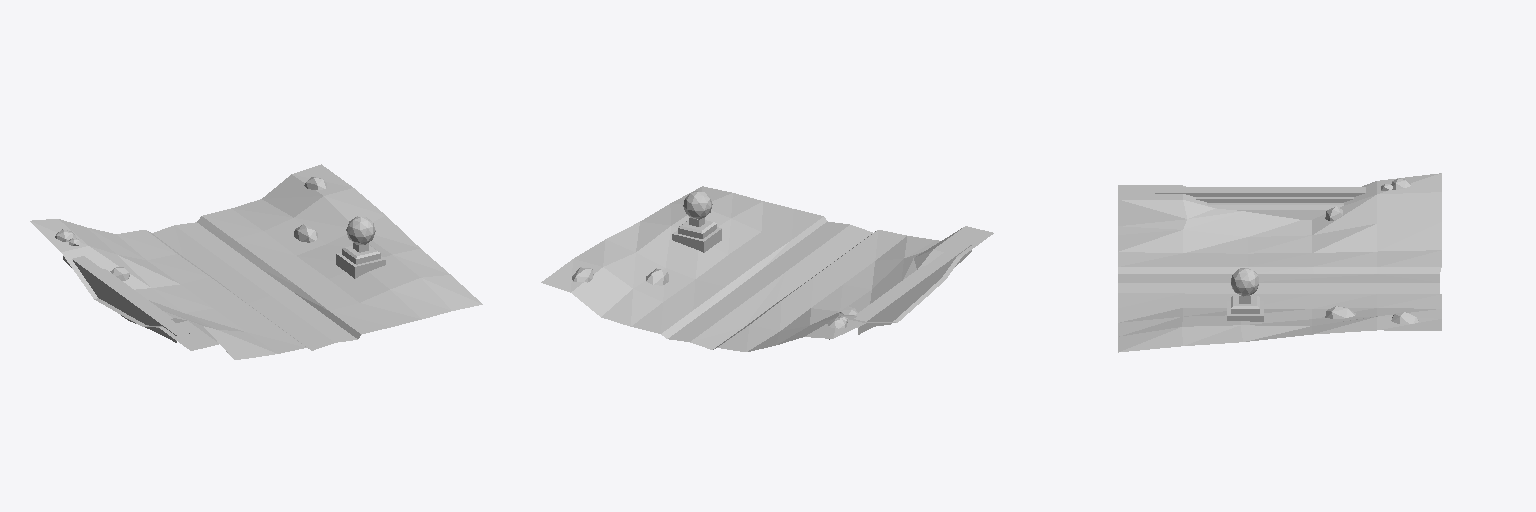
File: snowt.obj
3 views of the same model, side by side, from view 1: azimuth 30°, elevation 25°; view 2: azimuth 150°, elevation 25°; view 3: azimuth 270°, elevation 25° (orthographic).
Parts seen in each view (by area): view 1: tree; view 2: tree; view 3: tree.
Boxes of the visible parts, x1=… form: tree: x1=30, y1=164, x2=482, y2=359; tree: x1=541, y1=186, x2=993, y2=351; tree: x1=1118, y1=173, x2=1441, y2=352.
Size of the model in its own units: 17.73 by 3.49 by 16.96.